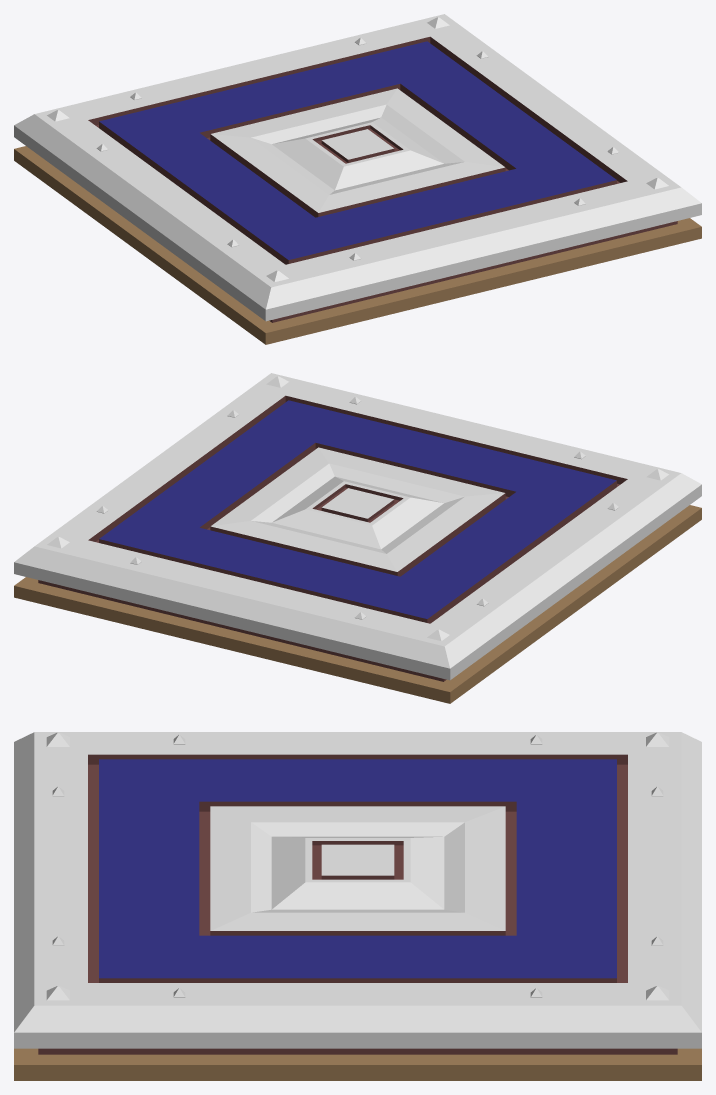
The model's file is chargedPlatform.fbx.
3 renders of one model, top to bottom at view 1: azimuth 30°, elevation 25°; view 2: azimuth 150°, elevation 25°; view 3: azimuth 270°, elevation 25°, orthographic. The views are drawn at different scales.
Parts seen in each view (by area): view 1: electricPlatform, spikes; view 2: electricPlatform, spikes; view 3: electricPlatform, spikes.
Part boxes in pixels (x1,y1,x2,y2): electricPlatform: (14, 14, 701, 344); spikes: (47, 17, 668, 282); electricPlatform: (14, 373, 701, 703); spikes: (47, 376, 668, 641); electricPlatform: (14, 732, 701, 1080); spikes: (46, 732, 669, 1000).
Bounding box in the file's own units: 801 × 212 × 801.
